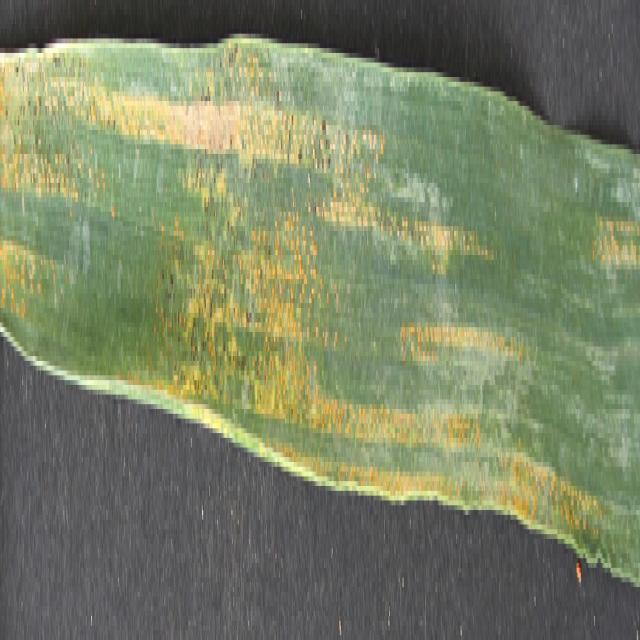leaf rust: (1, 19, 600, 563)
